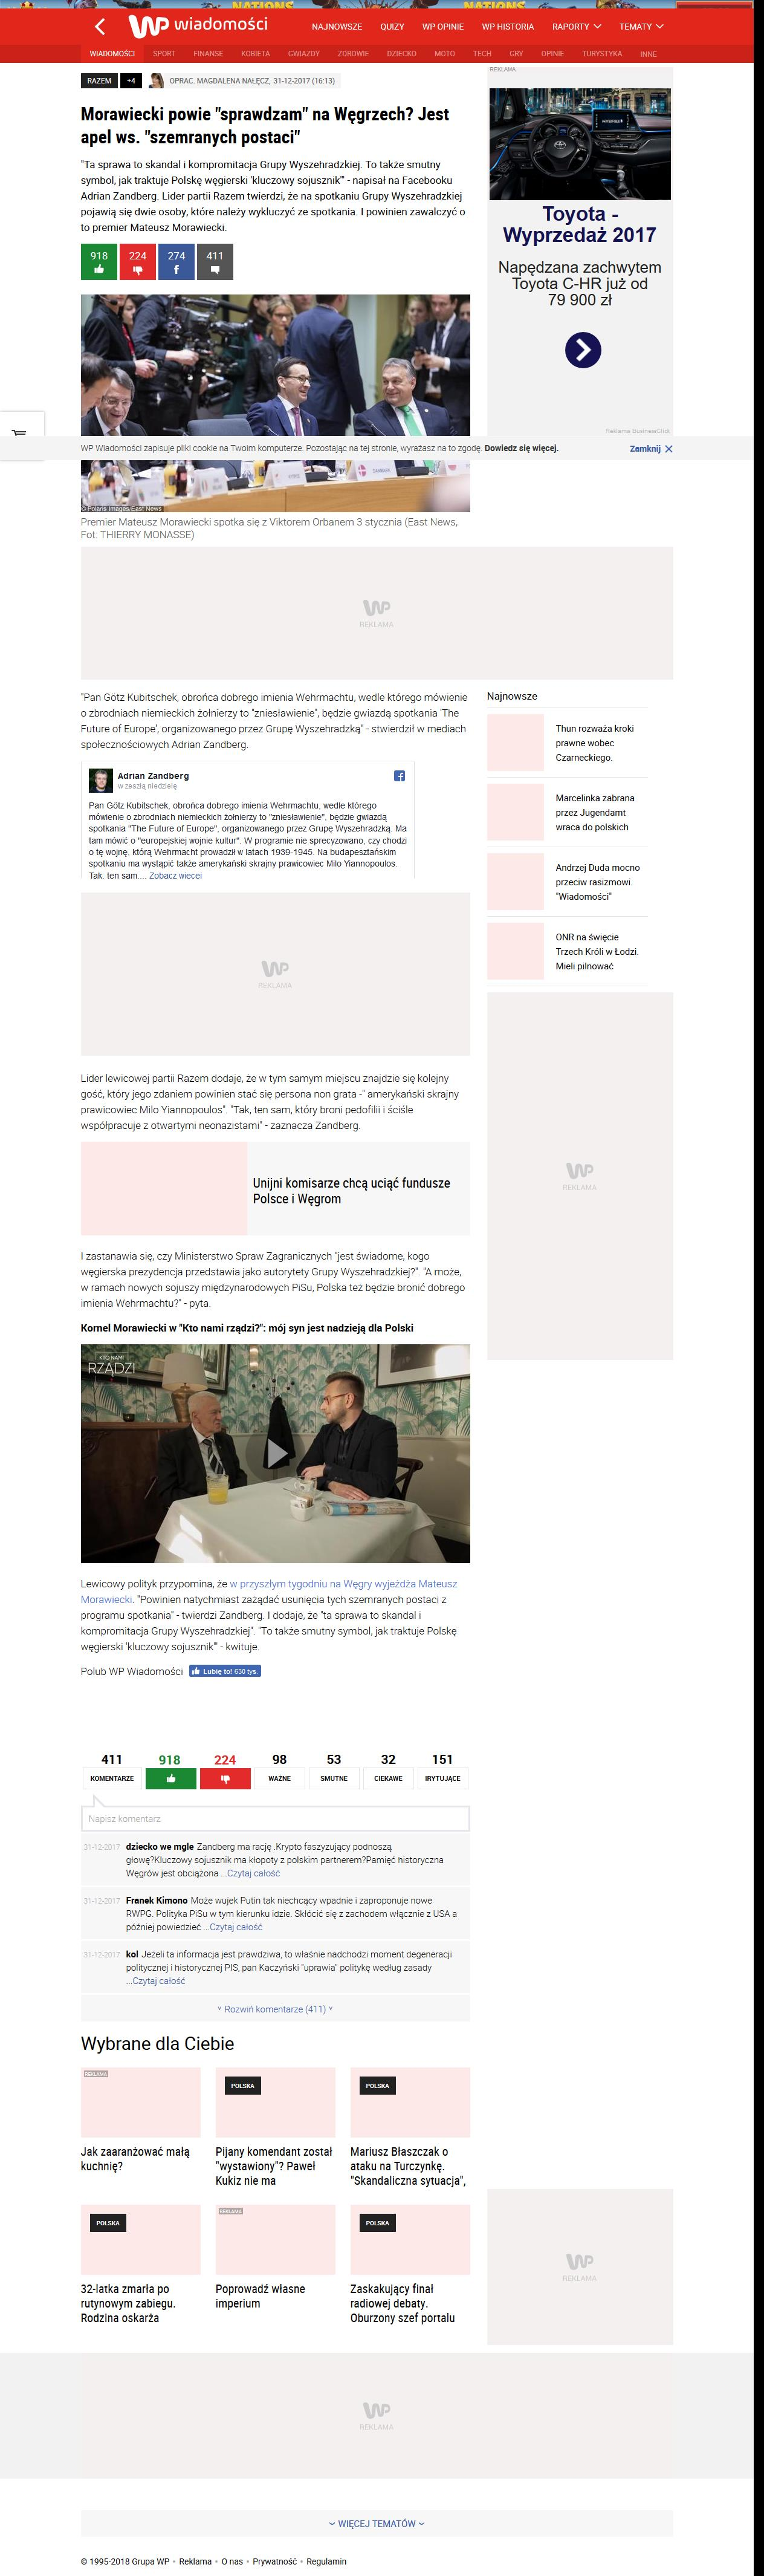title: (81, 105, 450, 146)
